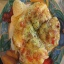pizza: (10, 1, 59, 62)
